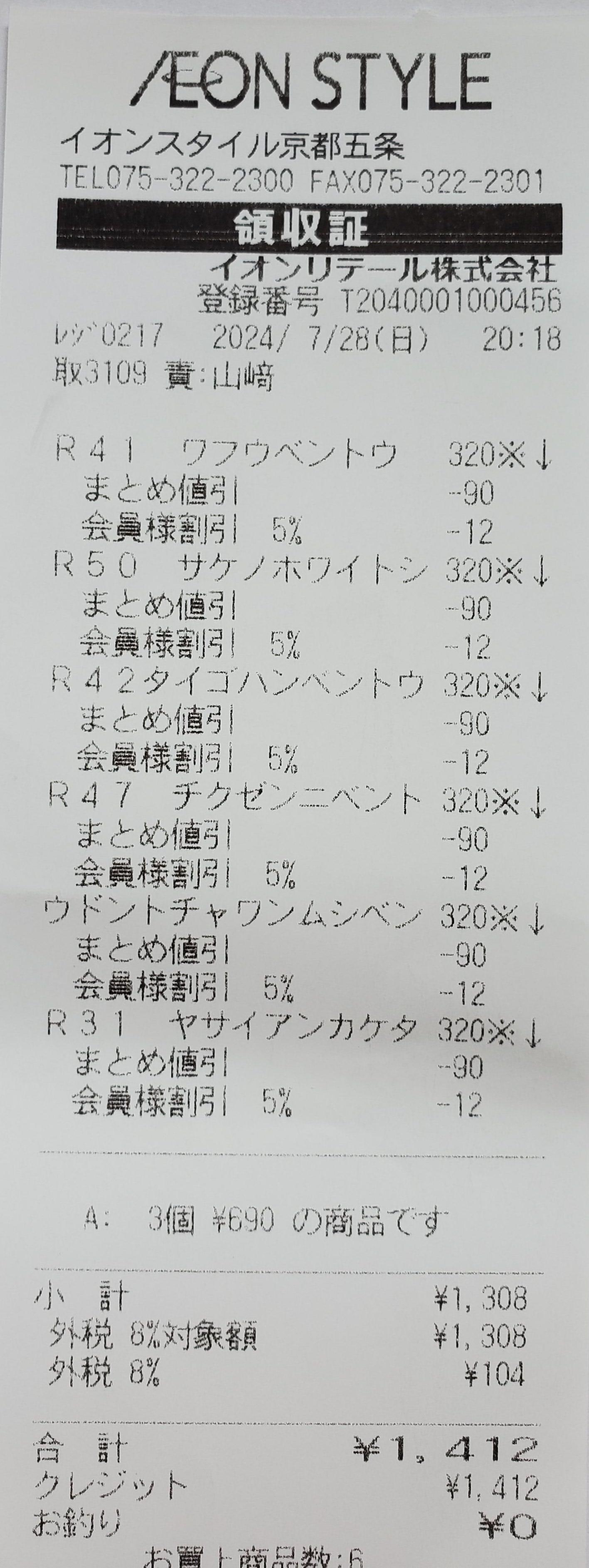TEL: (104, 162, 302, 202)
date: (204, 318, 383, 356)
total: (384, 1422, 545, 1472)
